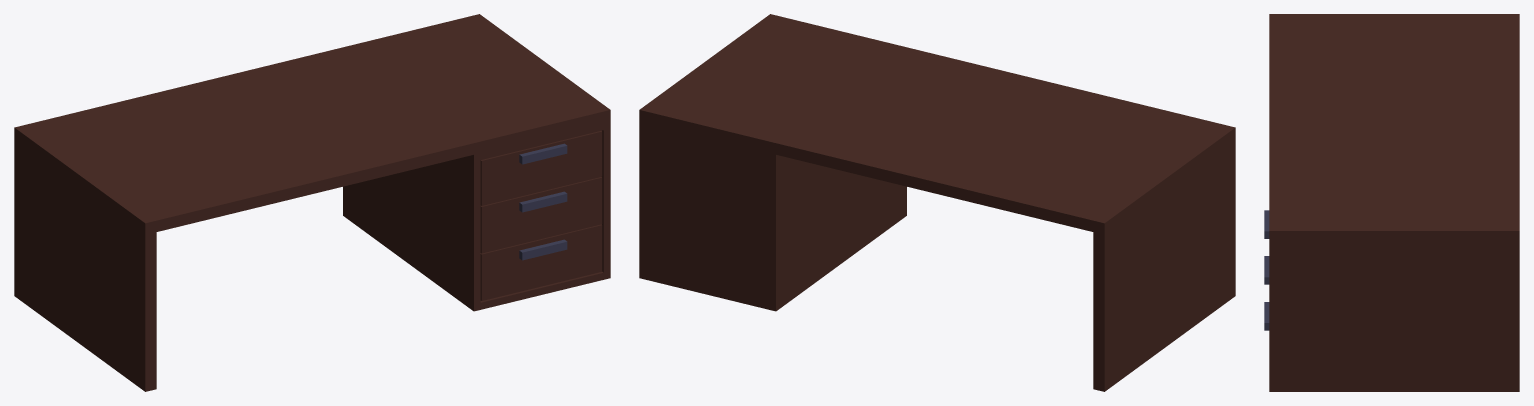
Rendered from crewDesk-Hr6mhf_7.glb.
The picture shows the model from 3 angles, left to right: view 1: azimuth 30°, elevation 25°; view 2: azimuth 150°, elevation 25°; view 3: azimuth 270°, elevation 25°; orthographic projection. The views are drawn at different scales.
Visible parts, largest first — view 1: Desk; view 2: Desk; view 3: Desk.
Boxes of the visible parts, <box> form: Desk: <box>14,14,610,391</box>; Desk: <box>639,14,1235,391</box>; Desk: <box>1264,14,1519,391</box>.
Bounding box in the file's own units: 1.25 × 0.433 × 0.6222.
Materials: 1 (1 with a texture image).
